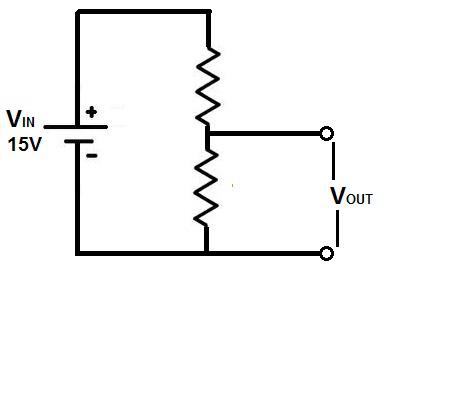resistor: (183, 17, 232, 133), (180, 133, 227, 245)
